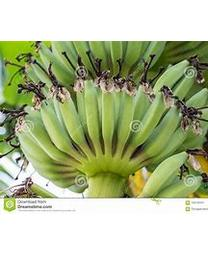banana: (15, 42, 205, 197)
